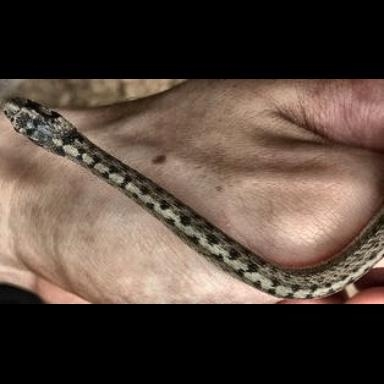snake: (1, 99, 384, 302)
